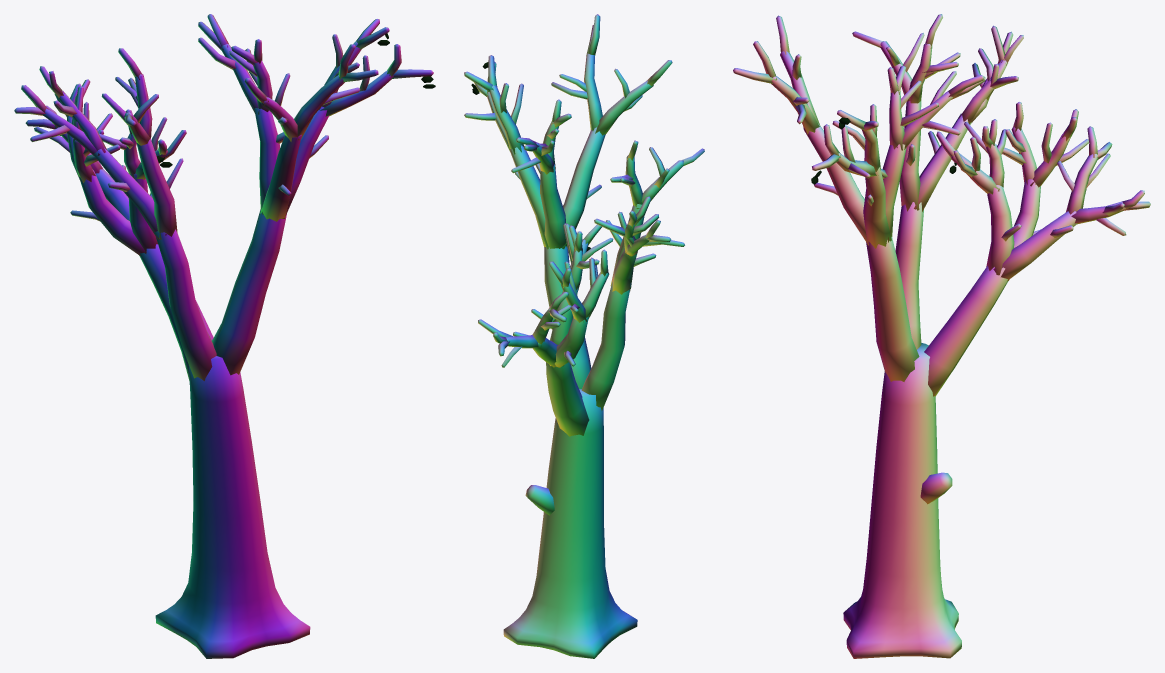
Rendered from SM_Foliage_March_DeadOak_B.fbx.
The picture shows the model from 3 angles, left to right: view 1: azimuth 30°, elevation 25°; view 2: azimuth 150°, elevation 25°; view 3: azimuth 270°, elevation 25°; orthographic projection. The views are drawn at different scales.
Visible parts, largest first — view 1: SM_Foliage_March_DeadOak_B; view 2: SM_Foliage_March_DeadOak_B; view 3: SM_Foliage_March_DeadOak_B.
Part boxes in pixels (x1,y1,x2,y2): SM_Foliage_March_DeadOak_B: (14, 14, 435, 658); SM_Foliage_March_DeadOak_B: (464, 14, 704, 658); SM_Foliage_March_DeadOak_B: (733, 14, 1150, 658).
Bounding box in the file's own units: 2.29 × 4.27 × 2.63.
